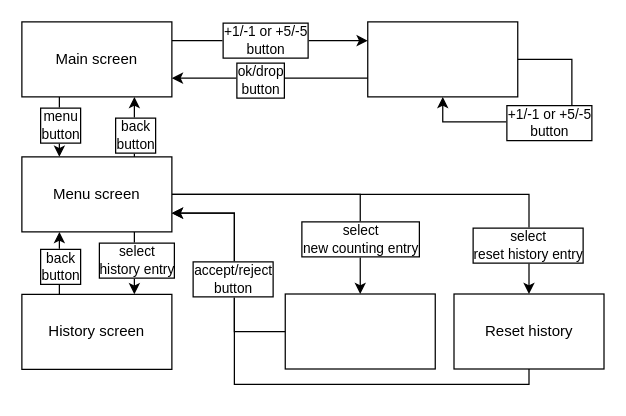
The diagram is 626 pixels wide and 416 high, and some of its shapes have lost their labels. Here are the shapes that lost their labels. From the top down, the centre of each, then its label:
At (x=442, y=59): "Delta screen".
At (x=359, y=331): "New counting".
